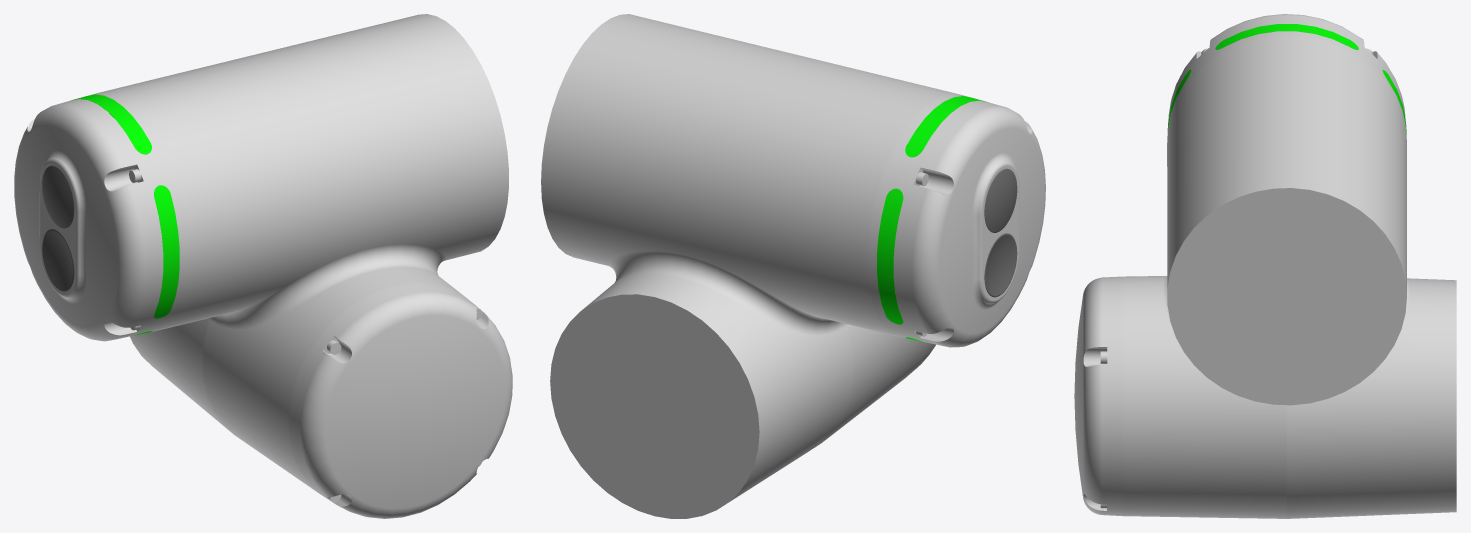
The picture shows the model from 3 angles, left to right: view 1: azimuth 30°, elevation 25°; view 2: azimuth 150°, elevation 25°; view 3: azimuth 270°, elevation 25°; orthographic projection. The views are drawn at different scales.
Visible parts, largest first — view 1: ID2; view 2: ID2; view 3: ID2.
Part boxes in pixels (left/top/right/bottom): ID2: left=14, top=14, right=512, bottom=518; ID2: left=541, top=14, right=1045, bottom=518; ID2: left=1074, top=14, right=1456, bottom=518.
Size of the model in its own units: 0.1955 by 0.168 by 0.1867.
